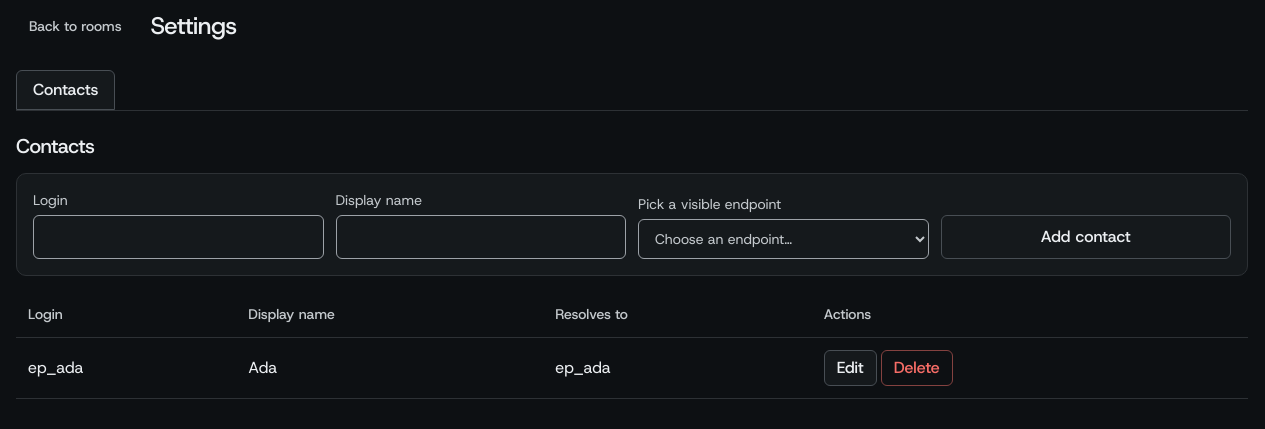
Test: SettingsPage contacts › shows a delete 404 inline with the contact row
The image size is (1265, 429).
Click the button "Delete" at (917, 368), box [881,350,953,386]
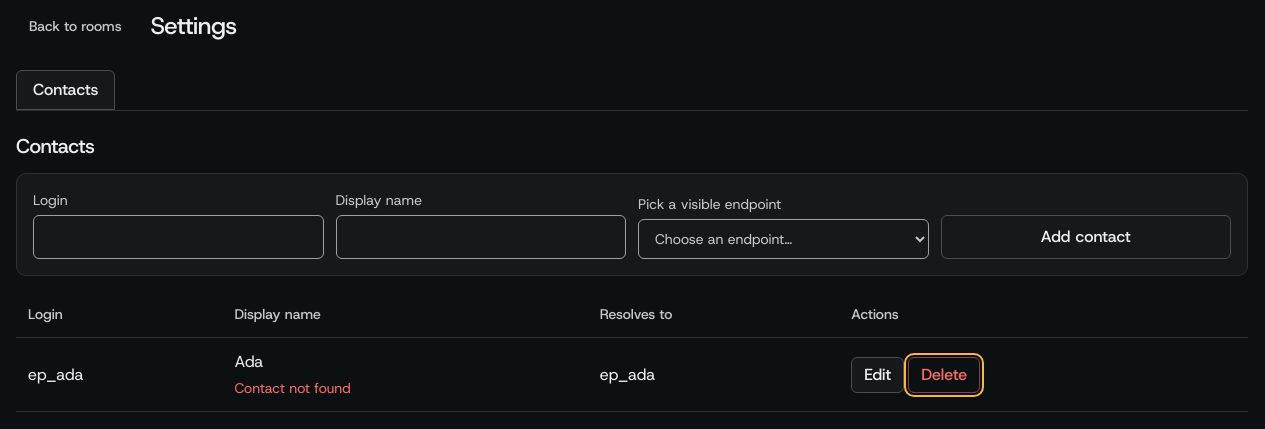
Expected: the message reads "Contact not found", [234,379,351,397]
